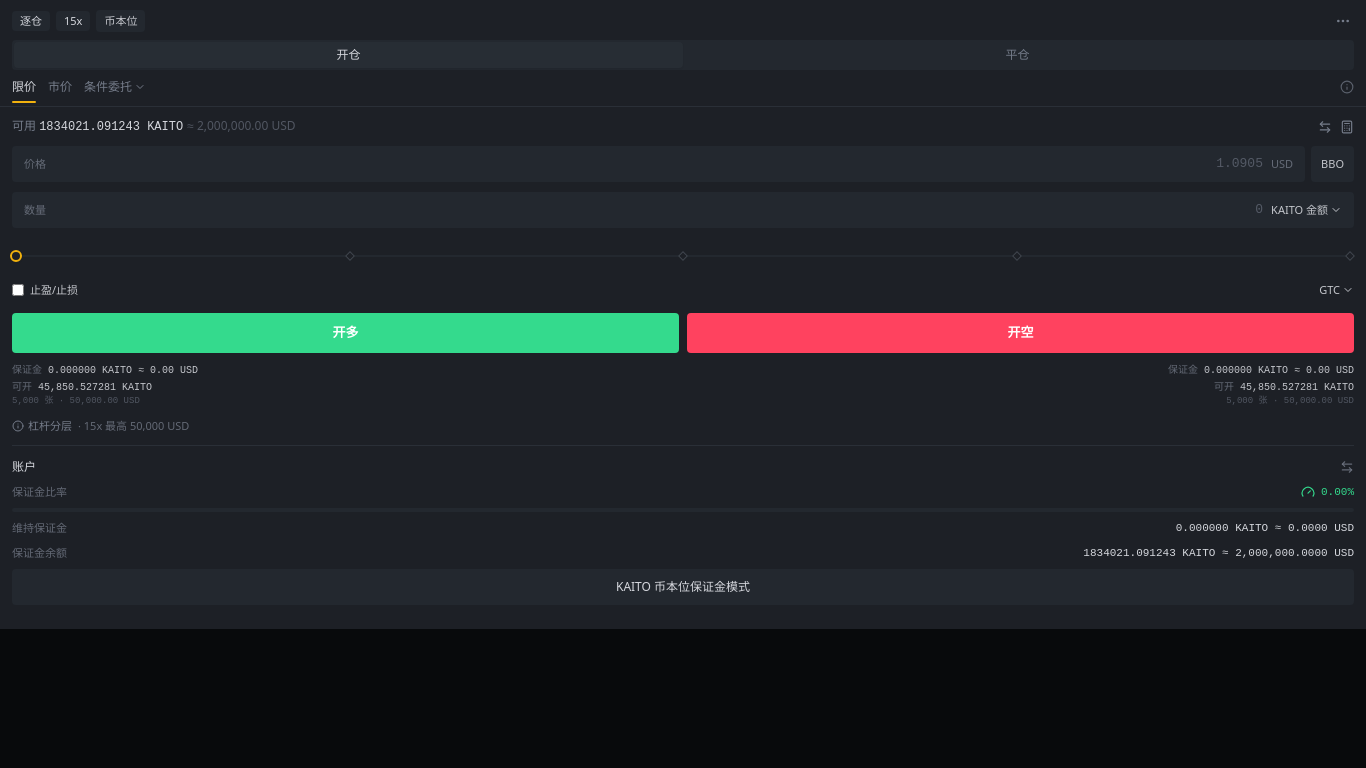
Test case: 用户的原始案例：KAITOUSD 163,578 张 › 15x 被拦：最高可持有 50,000 USD，这个规模最高 2x；按钮置灰
The width and height of the screenshot is (1366, 768).
Click the button with test id "unit-preference-trigger": (1307, 210) 1271,202 -> 1342,218
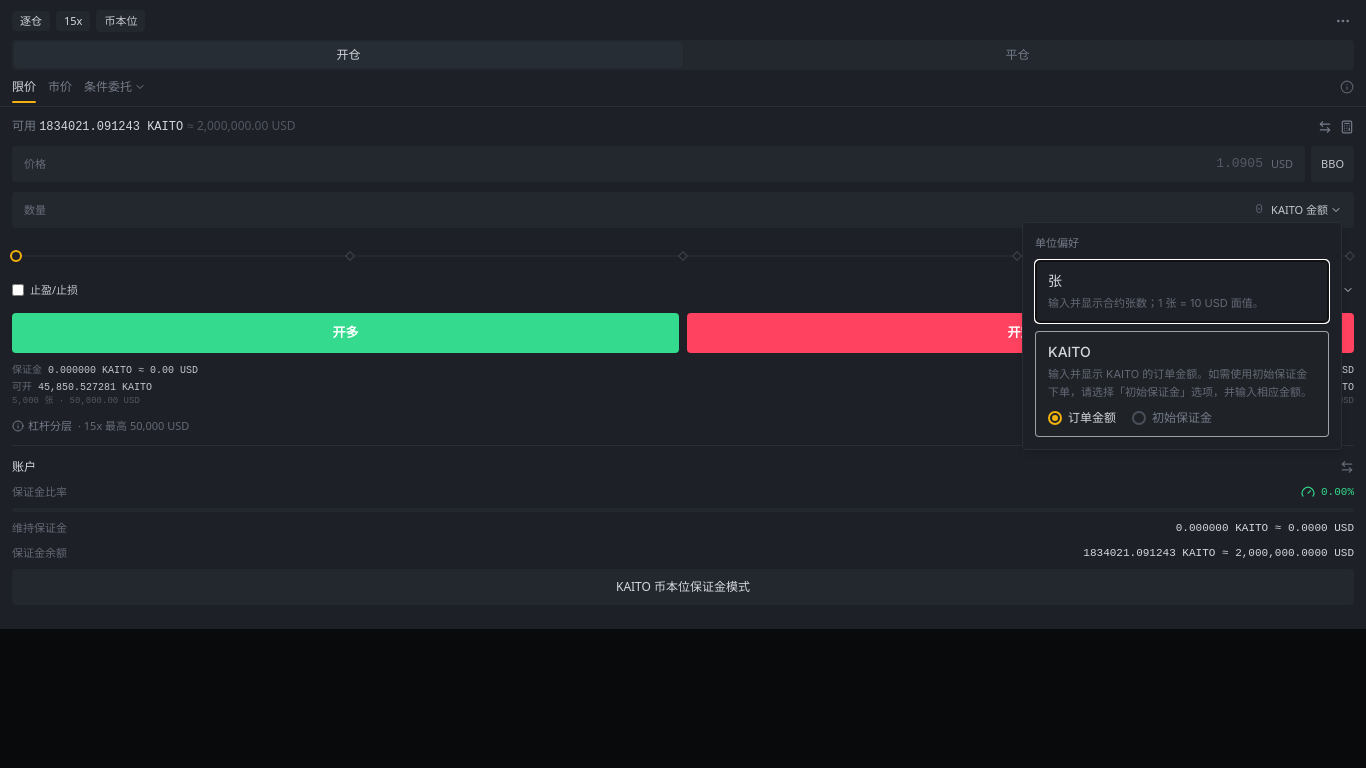
Click the button with test id "unit-card-CONTRACTS": (1156, 302) 1035,260 -> 1329,323
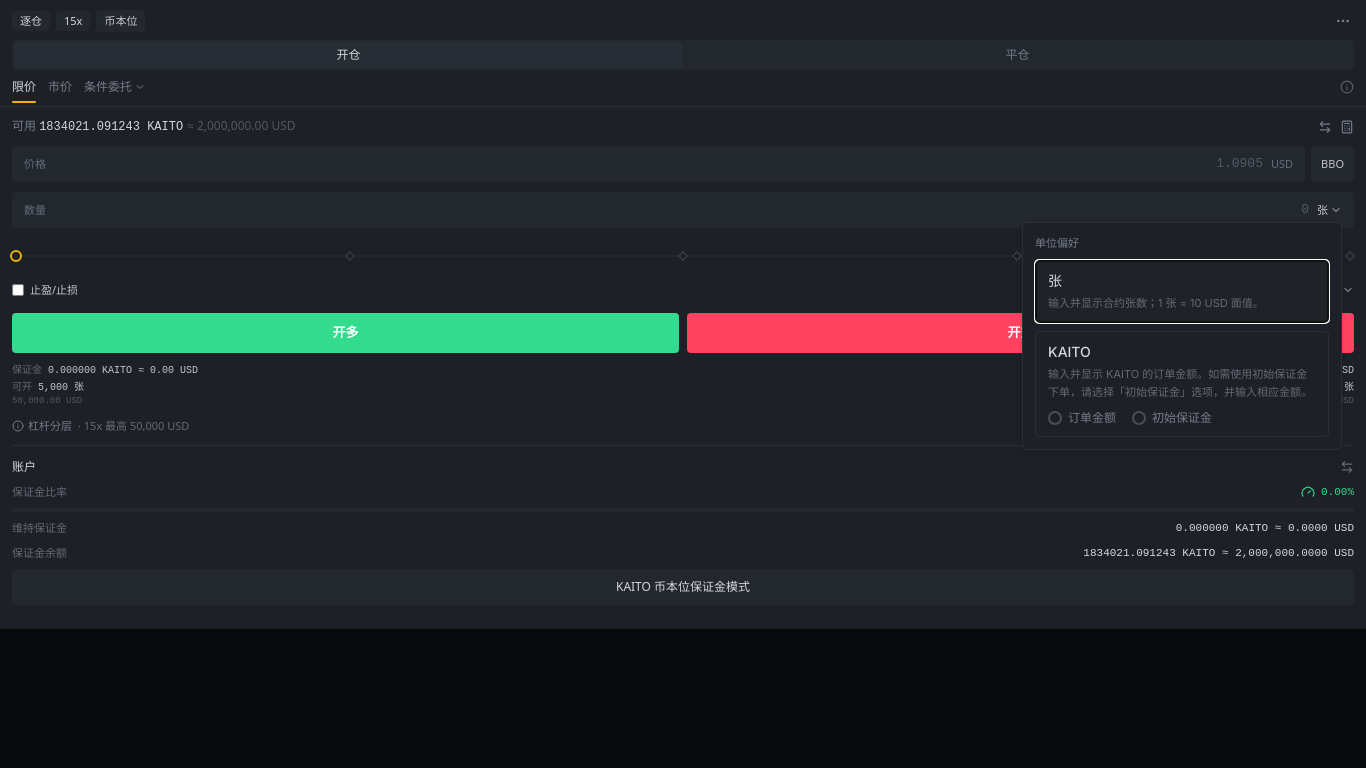
In the field with test id "order-qty-input": (682, 210) 54,200 -> 1309,220, type "163578"
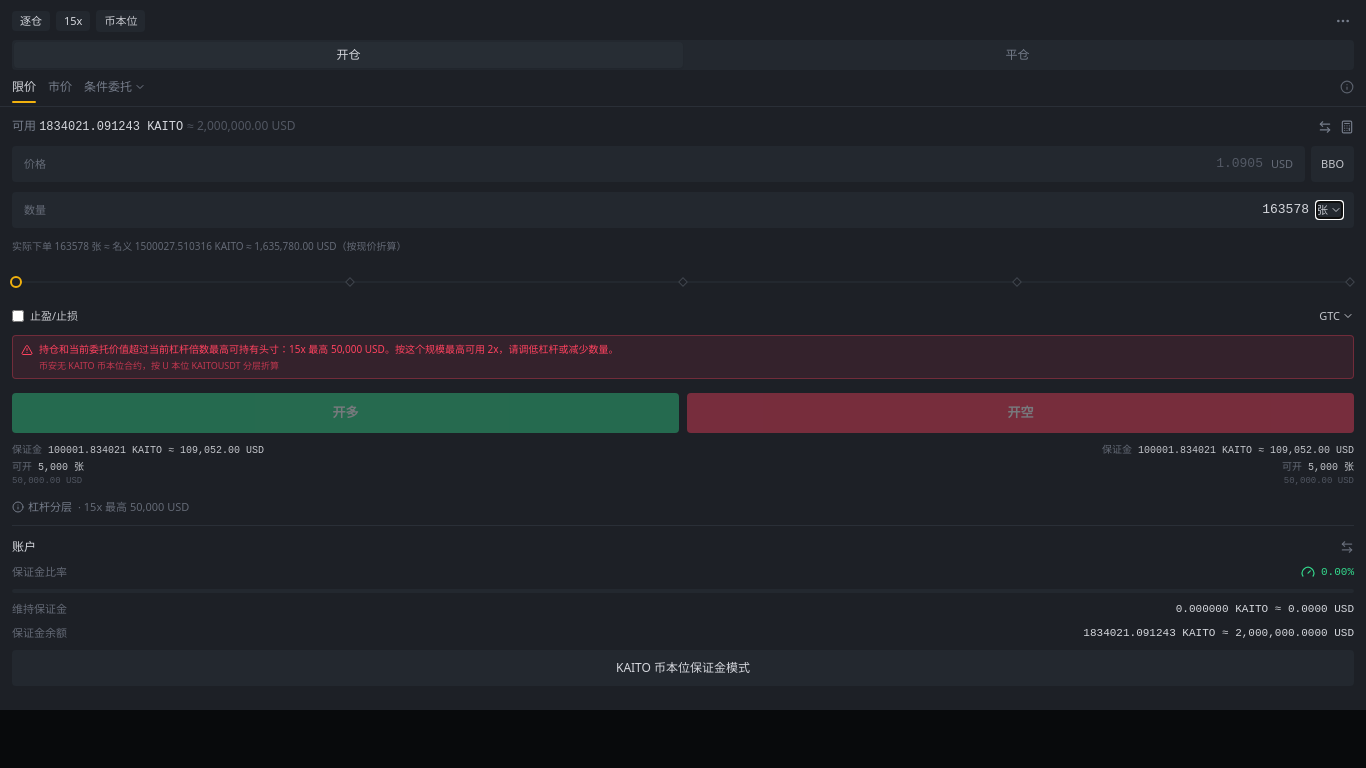
Result: the element with test id "position-limit-warning" shows "持仓和当前委托价值超过当前杠杆倍数最高可持有头寸：15x 最高 50,000 USD。按这个规模最高可用 2x，请调低杠杆或减少数量。" at 39,342 -> 618,356
Result: the text with test id "position-limit-note" reads "币安无 KAITO 币本位合约，按 U 本位 KAITOUSDT 分层折算" at 39,358 -> 279,372
Result: the button "开多" is disabled at 12,393 -> 679,433
